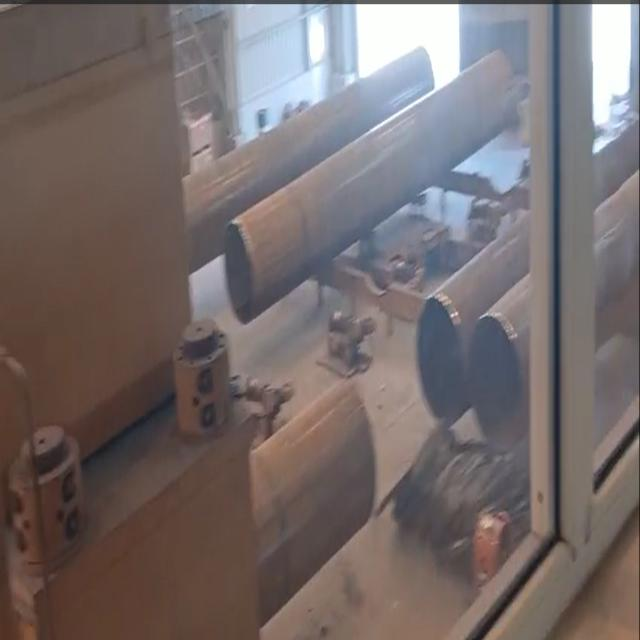warningzone: (325, 163, 528, 323)
